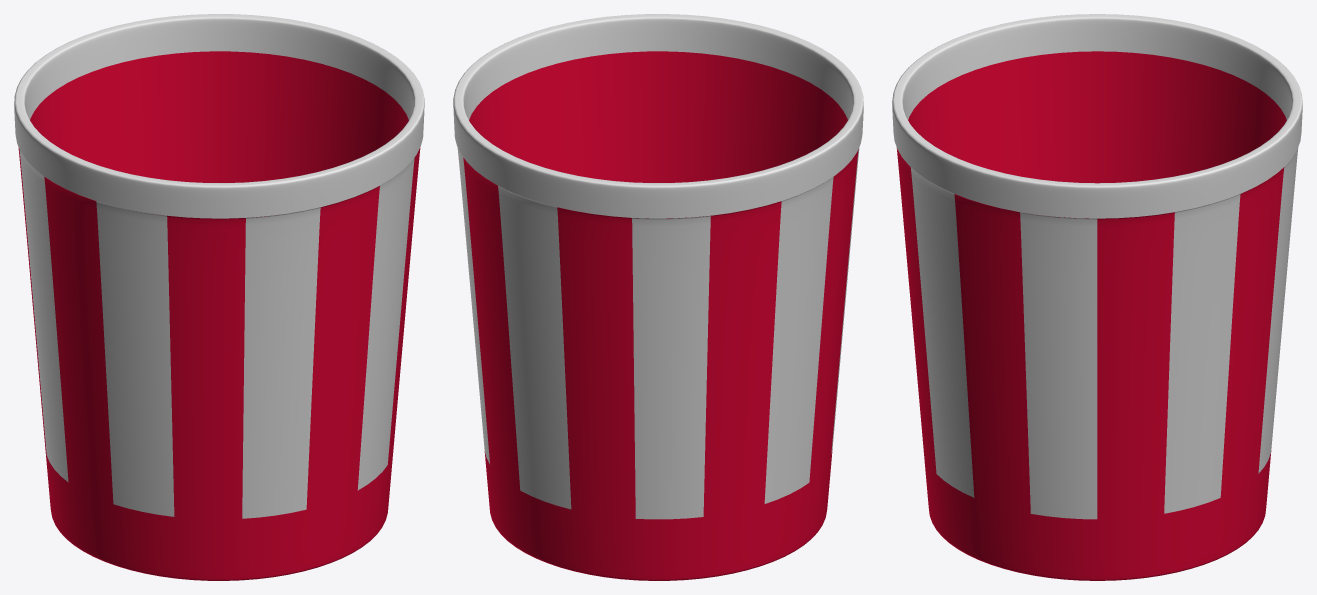
File: PopcornBusket.fbx
3 views of the same model, side by side, from view 1: azimuth 30°, elevation 25°; view 2: azimuth 150°, elevation 25°; view 3: azimuth 270°, elevation 25° (orthographic).
Visible parts, largest first — view 1: Cylinder, Cylinder.004; view 2: Cylinder, Cylinder.004; view 3: Cylinder, Cylinder.004.
Part boxes in pixels (bbox=[...]): Cylinder: bbox=[18, 51, 420, 580]; Cylinder.004: bbox=[14, 14, 424, 218]; Cylinder: bbox=[457, 51, 859, 580]; Cylinder.004: bbox=[453, 14, 863, 218]; Cylinder: bbox=[896, 51, 1298, 580]; Cylinder.004: bbox=[892, 14, 1302, 218].
Size of the model in its own units: 181 by 199 by 181.
